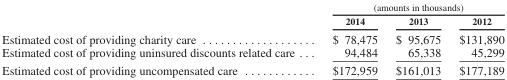table: (1, 1, 503, 76)
table column: (1, 1, 312, 76), (312, 1, 386, 76), (386, 1, 449, 76), (449, 1, 503, 76)
table column header: (1, 1, 503, 29)
table row: (1, 13, 503, 29), (1, 29, 503, 45), (1, 60, 503, 76), (1, 45, 503, 60), (1, 1, 503, 13)
table spanning cell: (312, 1, 503, 13)
